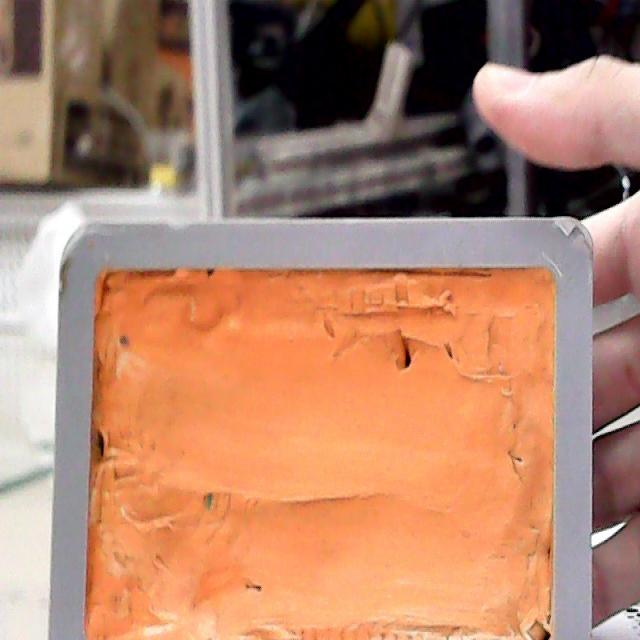block: (49, 211, 596, 640)
